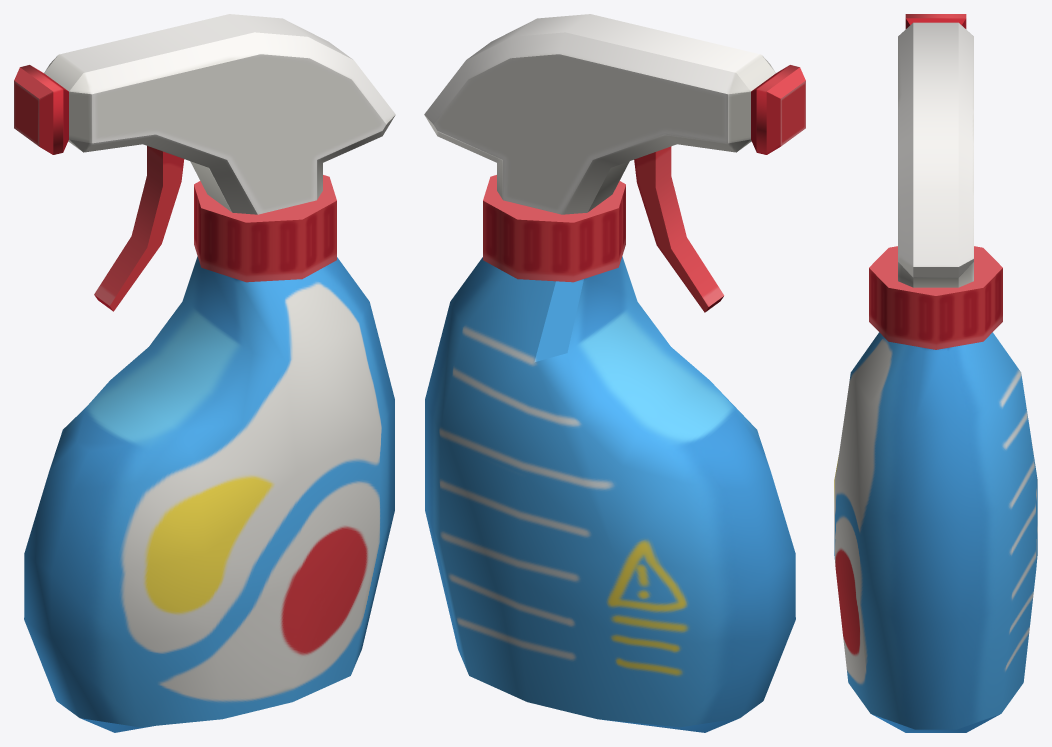
Rendered from cleaners_cleaning_product_spray_1.fbx.
The picture shows the model from 3 angles, left to right: view 1: azimuth 30°, elevation 25°; view 2: azimuth 150°, elevation 25°; view 3: azimuth 270°, elevation 25°; orthographic projection. The views are drawn at different scales.
Visible parts, largest first — view 1: cleaners_cleaning_product_spray_1; view 2: cleaners_cleaning_product_spray_1; view 3: cleaners_cleaning_product_spray_1.
Part boxes in pixels (x1,y1,x2,y2): cleaners_cleaning_product_spray_1: [14, 14, 395, 732]; cleaners_cleaning_product_spray_1: [424, 14, 805, 732]; cleaners_cleaning_product_spray_1: [834, 14, 1037, 732].
Bounding box in the file's own units: 10.4 × 18.48 × 5.68.
